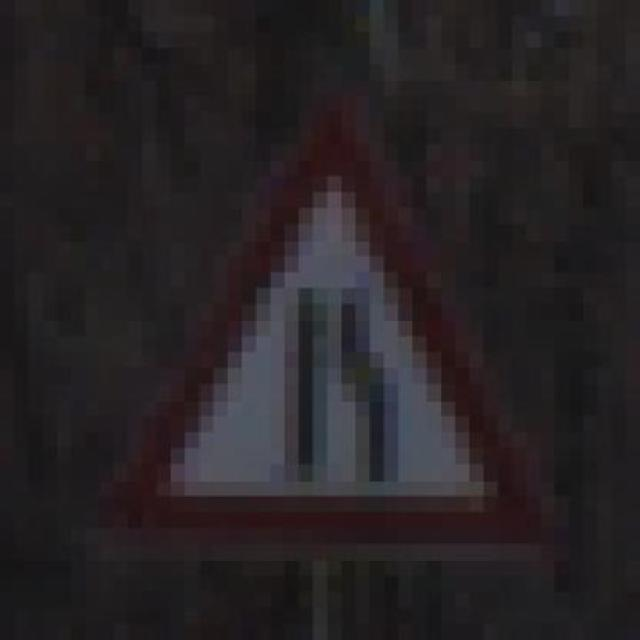-Road narrows on right: (85, 95, 569, 560)
